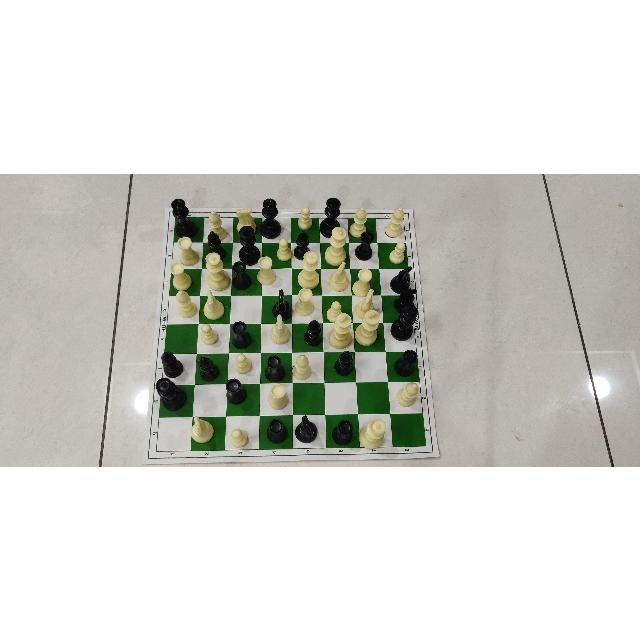black-bishop: (159, 350, 184, 376), (195, 354, 218, 379), (334, 350, 356, 374), (303, 320, 320, 346), (204, 230, 224, 250), (294, 227, 310, 248)
black-king: (392, 306, 422, 338), (238, 224, 260, 260), (320, 196, 342, 226)
black-knight: (294, 414, 317, 442), (389, 265, 412, 289), (271, 286, 289, 311), (393, 288, 419, 305)
black-queen: (171, 196, 199, 235), (155, 377, 184, 410), (263, 197, 283, 233)
black-rook: (394, 349, 418, 377), (230, 320, 254, 347), (356, 232, 377, 261), (331, 419, 354, 443), (226, 378, 248, 402), (232, 262, 252, 288), (263, 355, 283, 381), (270, 418, 288, 445)
white-bishop: (384, 204, 406, 234), (289, 354, 311, 382), (397, 383, 423, 405), (174, 290, 194, 317), (350, 206, 369, 232), (205, 210, 224, 226)
white-king: (354, 310, 382, 344), (327, 314, 353, 346), (321, 227, 346, 259)
white-knight: (267, 313, 295, 343), (190, 415, 214, 443), (202, 291, 225, 319), (328, 261, 347, 290), (234, 206, 255, 224), (359, 289, 379, 307)
white-pawn: (235, 351, 253, 375), (229, 426, 250, 446), (389, 240, 409, 261), (295, 205, 315, 226), (201, 320, 218, 344), (276, 236, 292, 260), (327, 300, 342, 314)
white-queen: (293, 250, 318, 286), (359, 418, 386, 449), (204, 250, 225, 287)
white-rook: (266, 383, 291, 409), (295, 288, 315, 318), (256, 255, 274, 287), (177, 236, 199, 262), (354, 269, 374, 293), (172, 263, 190, 289)
